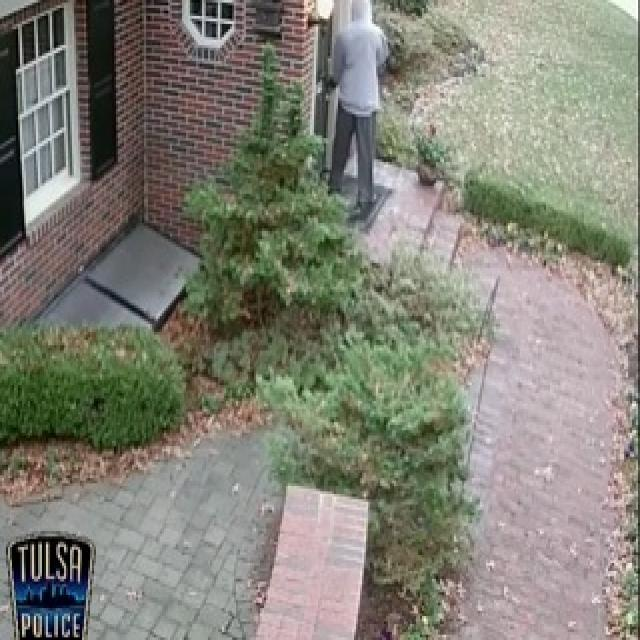thief: (322, 0, 390, 207)
